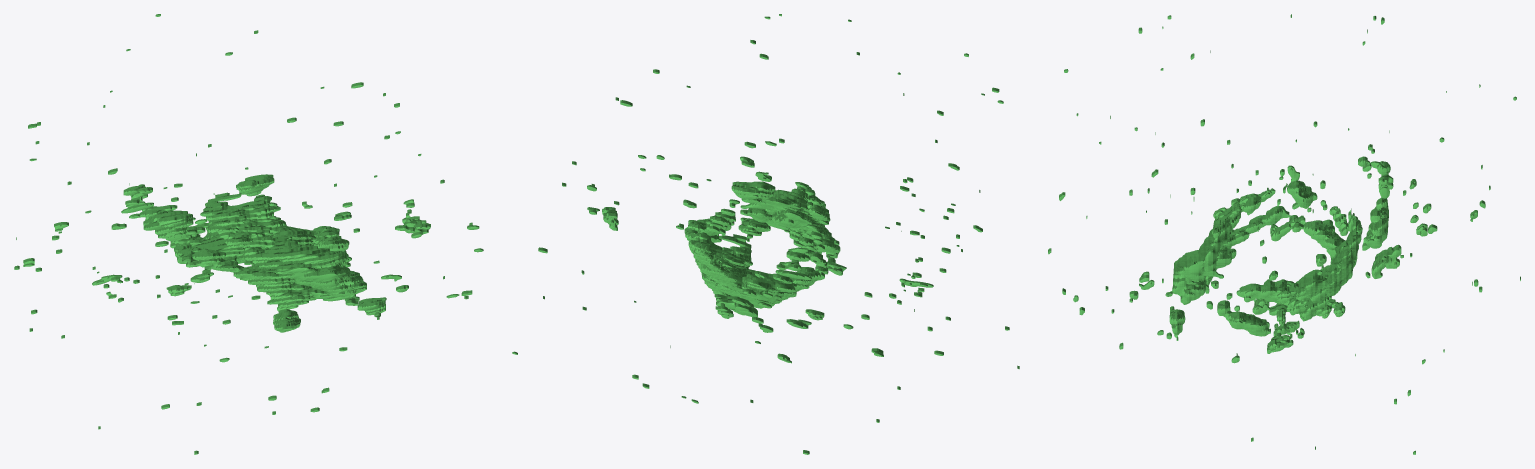
The model's file is ngc3132_isosurface.glb.
The picture shows the model from 3 angles, left to right: view 1: azimuth 30°, elevation 25°; view 2: azimuth 150°, elevation 25°; view 3: azimuth 270°, elevation 25°; orthographic projection. The views are drawn at different scales.
Bounding box in the file's own units: 1.61 × 0.9874 × 1.55.
